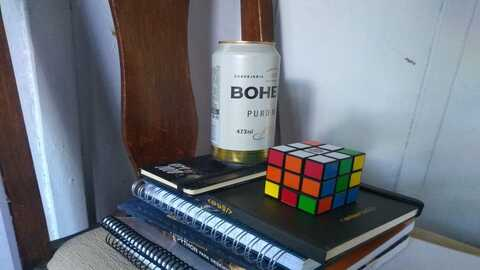bohemia: (206, 33, 288, 179)
